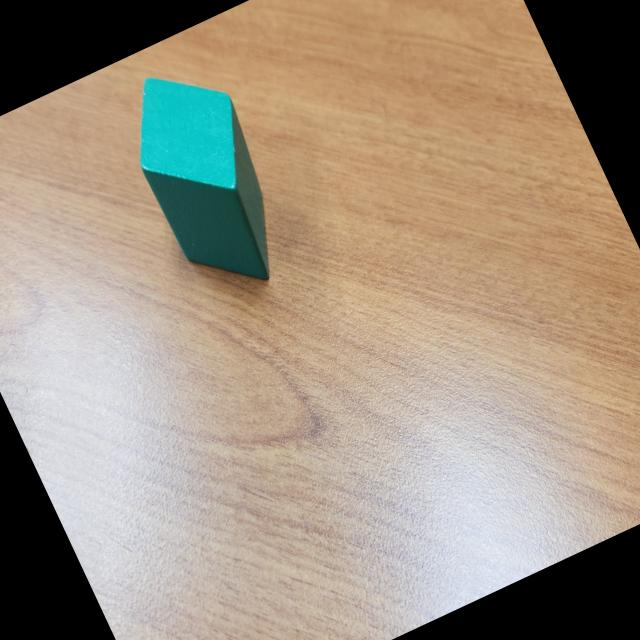green: (106, 47, 310, 312)
